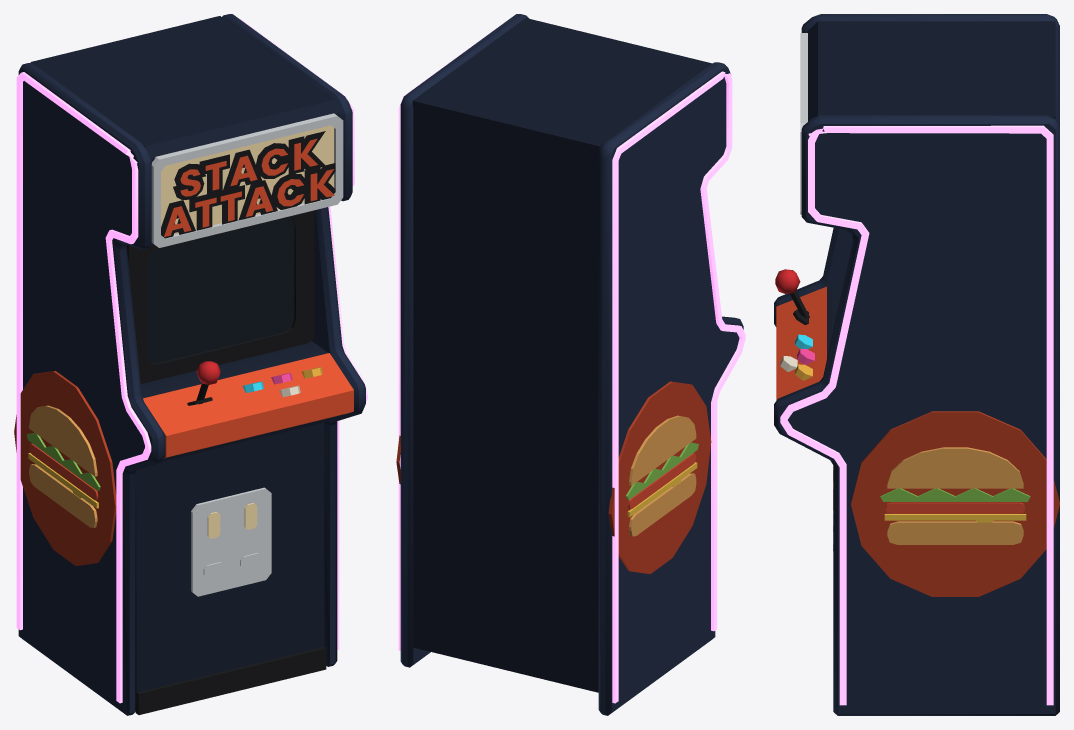
File: Lobby_ArcadeCabinet.fbx
3 views of the same model, side by side, from view 1: azimuth 30°, elevation 25°; view 2: azimuth 150°, elevation 25°; view 3: azimuth 270°, elevation 25° (orthographic). The views are drawn at different scales.
Visible parts, largest first — view 1: Cabinet, SidePanels, Black, Screen, Chrome, ControlPanel, SideNeon, ArtDisc, Letters, MarqueeLight, ArtBun, ArtTomato (+1 smaller); view 2: Cabinet, SidePanels, SideNeon, ArtDisc, ArtBun, ArtTomato, ArtLettuce; view 3: SidePanels, Cabinet, ArtDisc, SideNeon, ArtBun, ControlPanel, ArtTomato, ArtLettuce, ArtCheese, Chrome, Joystick.
Boxes of the visible parts, left/top/right/bottom form: Cabinet: left=30, top=16, right=347, bottom=692; SidePanels: left=18, top=14, right=365, bottom=715; Black: left=126, top=131, right=335, bottom=714; Screen: left=147, top=218, right=294, bottom=363; Chrome: left=151, top=113, right=343, bottom=596; ControlPanel: left=143, top=353, right=353, bottom=458; SideNeon: left=16, top=19, right=367, bottom=703; ArtDisc: left=14, top=371, right=116, bottom=565; Letters: left=164, top=138, right=334, bottom=236; MarqueeLight: left=161, top=125, right=333, bottom=538; ArtBun: left=29, top=405, right=97, bottom=527; ArtTomato: left=29, top=443, right=98, bottom=500; Cabinet: left=412, top=18, right=712, bottom=692; SidePanels: left=400, top=14, right=743, bottom=715; SideNeon: left=398, top=19, right=745, bottom=703; ArtDisc: left=396, top=381, right=711, bottom=574; ArtBun: left=629, top=415, right=696, bottom=536; ArtTomato: left=628, top=453, right=696, bottom=509; ArtLettuce: left=626, top=442, right=698, bottom=500; SidePanels: left=774, top=14, right=1059, bottom=715; Cabinet: left=807, top=21, right=1055, bottom=358; ArtDisc: left=851, top=411, right=1059, bottom=596; SideNeon: left=780, top=125, right=1053, bottom=705; ArtBun: left=887, top=447, right=1023, bottom=544; ControlPanel: left=776, top=286, right=826, bottom=400; ArtTomato: left=886, top=502, right=1024, bottom=513; ArtLettuce: left=880, top=488, right=1030, bottom=501; ArtCheese: left=884, top=514, right=1026, bottom=522; Chrome: left=800, top=33, right=833, bottom=550; Joystick: left=775, top=269, right=800, bottom=293.
Size of the model in its own units: 242 by 600 by 260.
